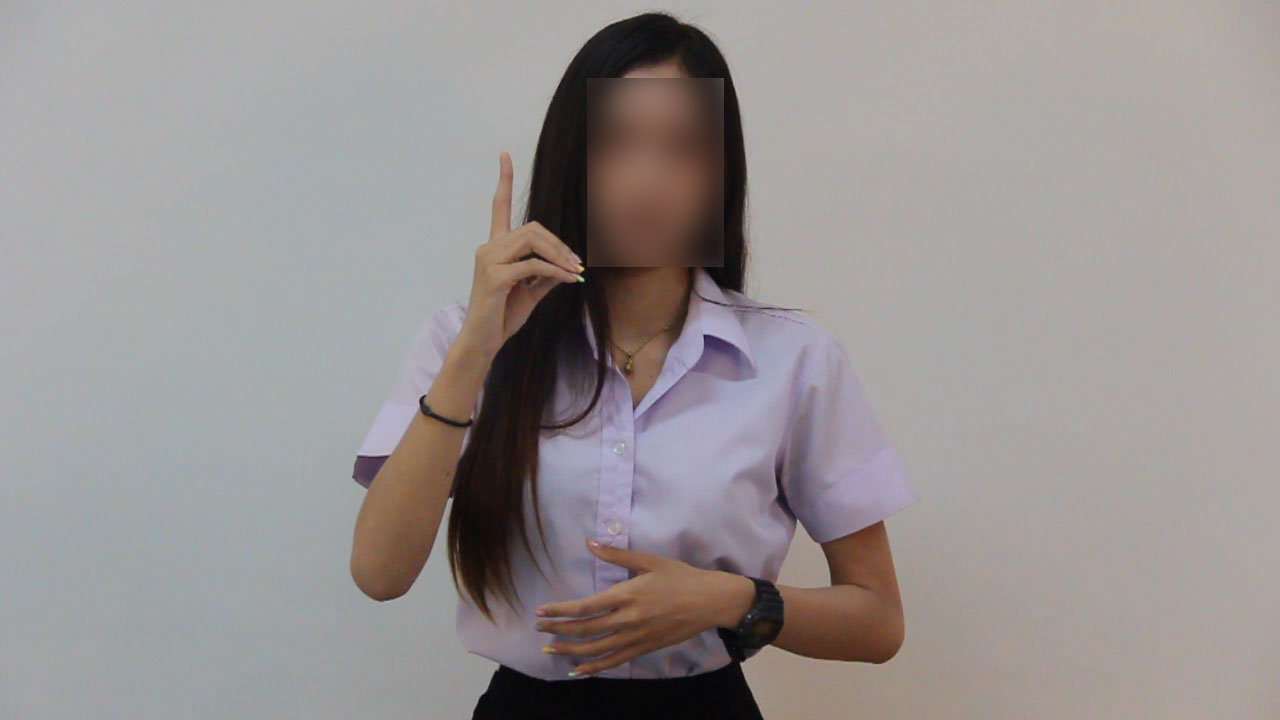dor: (447, 146, 592, 346)
